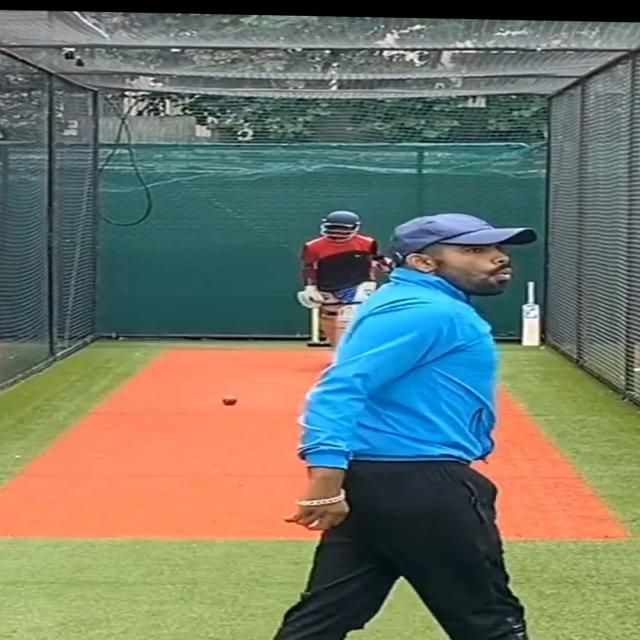ball: (220, 394, 240, 406)
